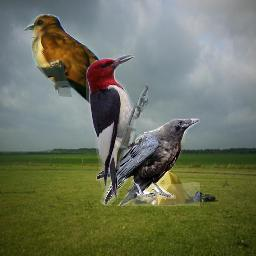Crow: (96, 118, 200, 206)
Cuckoo: (24, 14, 112, 118)
Woodpecker: (86, 54, 148, 202)
